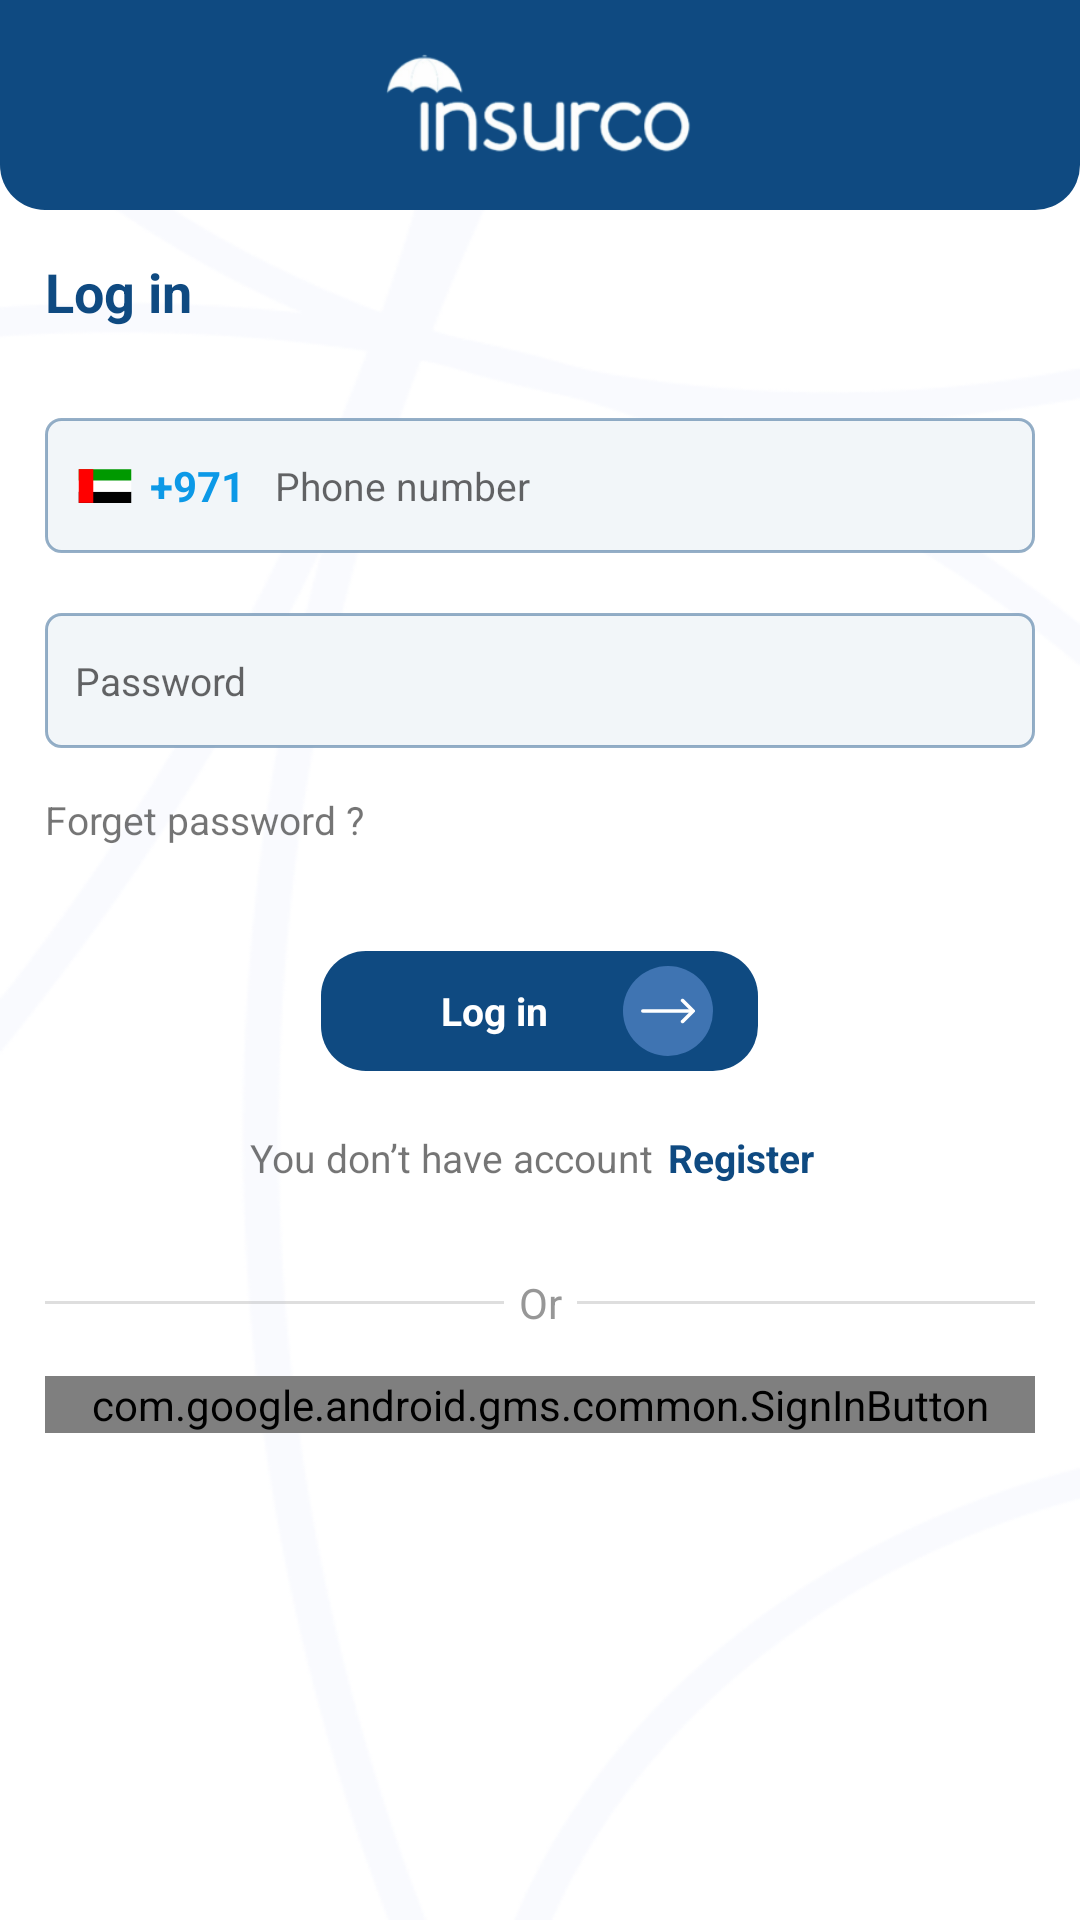

Where to tap for icons on this 1080x1920 app screen, as (x=x, y=y):
emirate flag: (x=105, y=486)
next: (x=668, y=1011)
